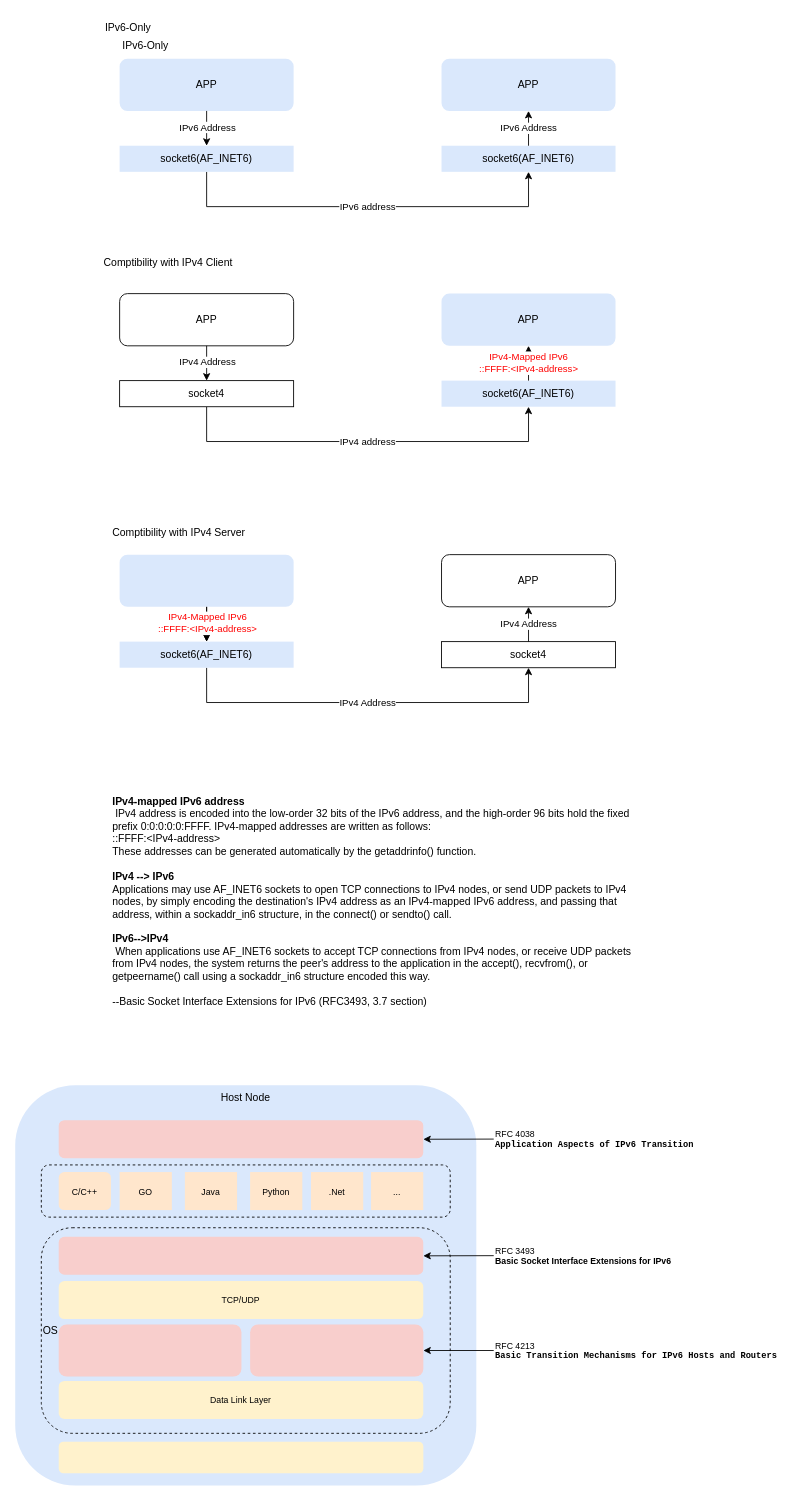
The diagram is 792 pixels wide and 1500 high, and some of its shapes have lost their labels. The shapes that lost their labels are listed below. From the top down, each one's centre as x and y in pixels, then its label:
At (x=206, y=580): "APP getaddrinfo()".
At (x=240, y=1139): "Application".
At (x=240, y=1255): "Socket API".
At (x=149, y=1350): "IPv6 Stack".
At (x=336, y=1350): "IPv4 Stack".
At (x=240, y=1457): "NIC".
